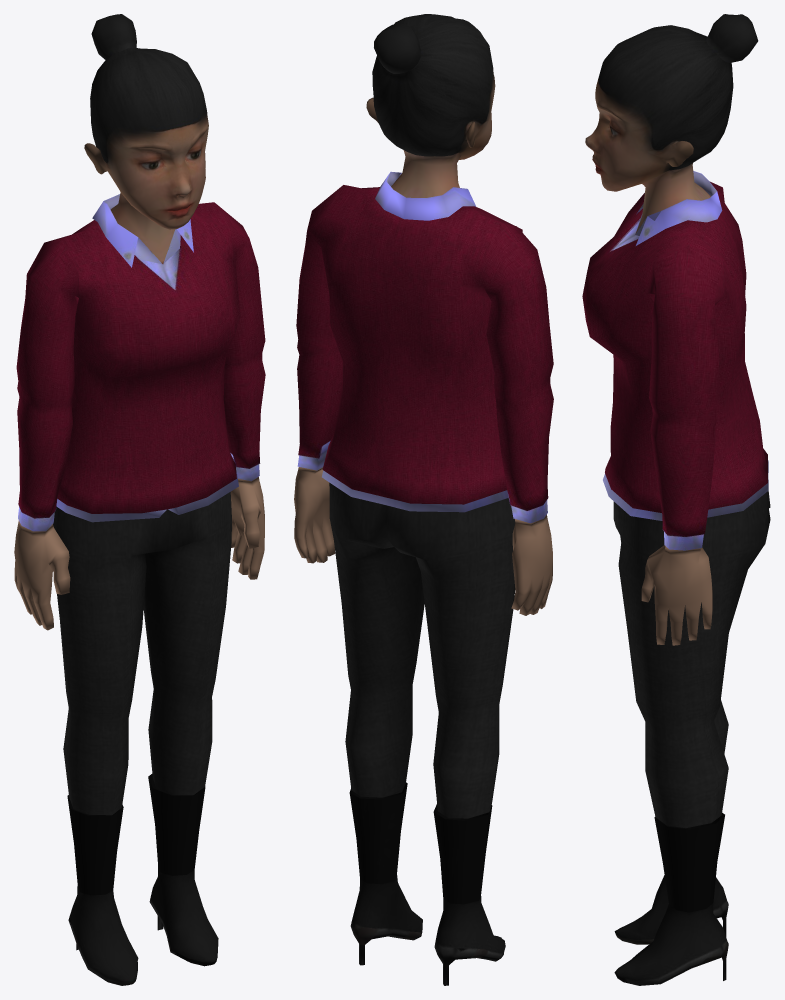
The model's file is NPC9.glb.
3 renders of one model, left to right at view 1: azimuth 30°, elevation 25°; view 2: azimuth 150°, elevation 25°; view 3: azimuth 270°, elevation 25°, orthographic. The views are drawn at different scales.
Visible parts, largest first — view 1: F_lBody_BaseMesh.001mesh.003; view 2: F_lBody_BaseMesh.001mesh.003; view 3: F_lBody_BaseMesh.001mesh.003.
Part boxes in pixels (<box>): F_lBody_BaseMesh.001mesh.003: <box>14,14,265,985</box>; F_lBody_BaseMesh.001mesh.003: <box>294,14,553,985</box>; F_lBody_BaseMesh.001mesh.003: <box>582,14,770,985</box>.
Size of what is drawn, in the model's own units: 0.4791 by 1.76 by 0.3184.
2 materials, 2 textured.
